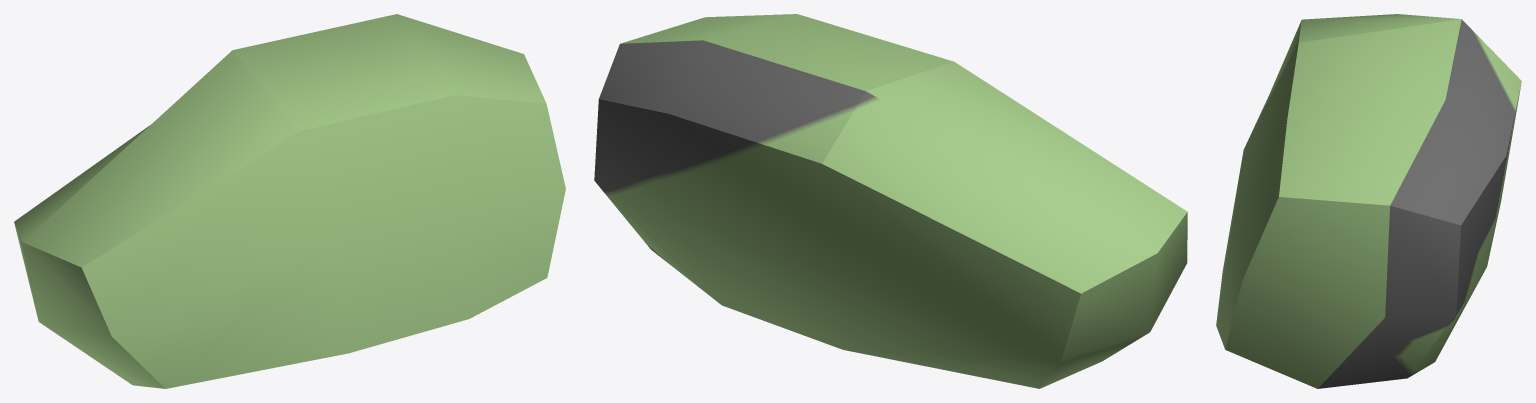
Rendered from OBJ_Rock_B_001.fbx.
The picture shows the model from 3 angles, left to right: view 1: azimuth 30°, elevation 25°; view 2: azimuth 150°, elevation 25°; view 3: azimuth 270°, elevation 25°; orthographic projection. The views are drawn at different scales.
Parts seen in each view (by area): view 1: Rock_B_001; view 2: Rock_B_001; view 3: Rock_B_001.
Boxes of the visible parts, box(x1,y1,x2,y2) form: Rock_B_001: box(14, 14, 565, 388); Rock_B_001: box(594, 14, 1187, 388); Rock_B_001: box(1216, 14, 1521, 388).
Bounding box in the file's own units: 2970 × 1530 × 1383.
